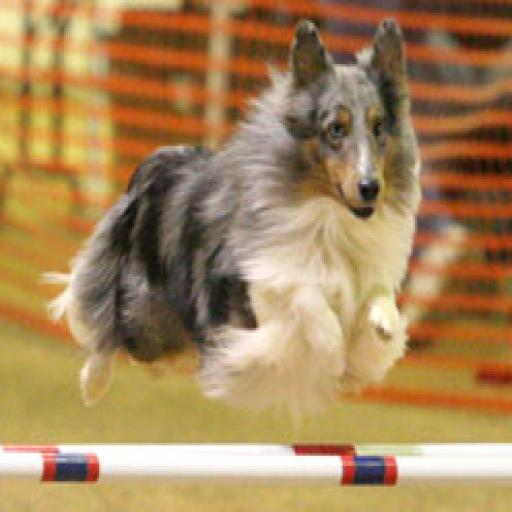dog_face: (284, 16, 416, 230)
